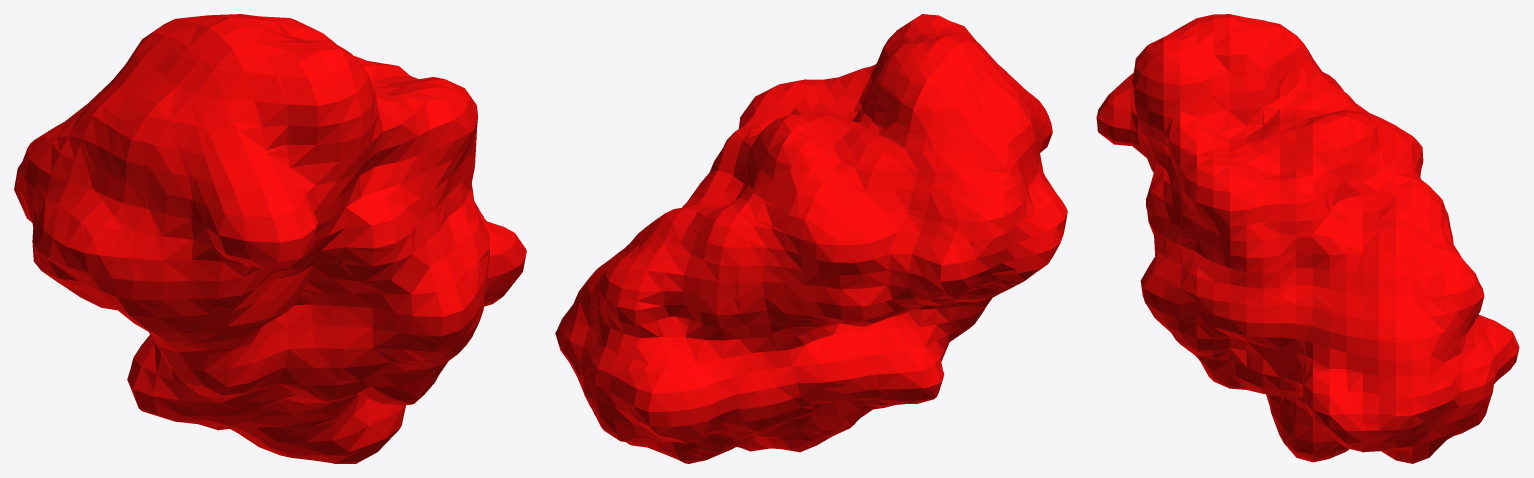
The model's file is glgX_coarse.dae.
The picture shows the model from 3 angles, left to right: view 1: azimuth 30°, elevation 25°; view 2: azimuth 150°, elevation 25°; view 3: azimuth 270°, elevation 25°; orthographic projection. The views are drawn at different scales.
Visible parts, largest first — view 1: glgX; view 2: glgX; view 3: glgX.
Boxes of the visible parts, left/top/right/bottom form: glgX: left=14, top=14, right=526, bottom=463; glgX: left=555, top=14, right=1067, bottom=463; glgX: left=1096, top=14, right=1519, bottom=463.
Bounding box in the file's own units: 81.67 × 76.1 × 76.87.
